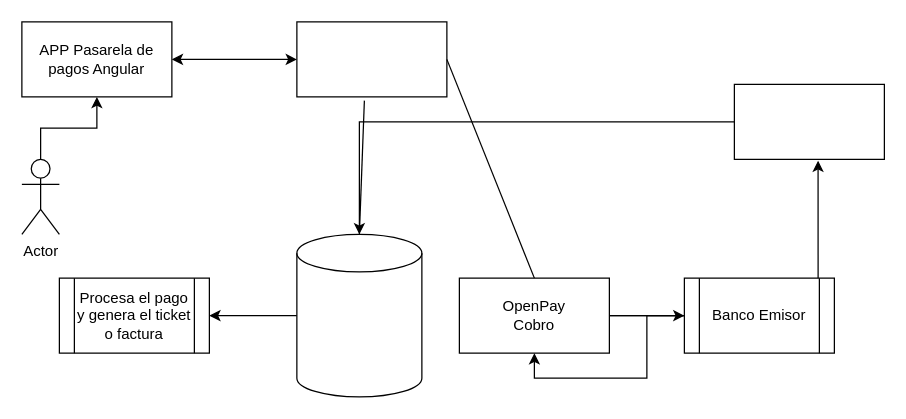
Image size: 906x419. Some labels were removed from this diagram. Each missing label, with the centre of its shape:
NewSoftvWEB Base de Datos: the point at 359,315
Webhook: the point at 808,121
WEBSERVICE WCF de Softv: the point at 371,59
